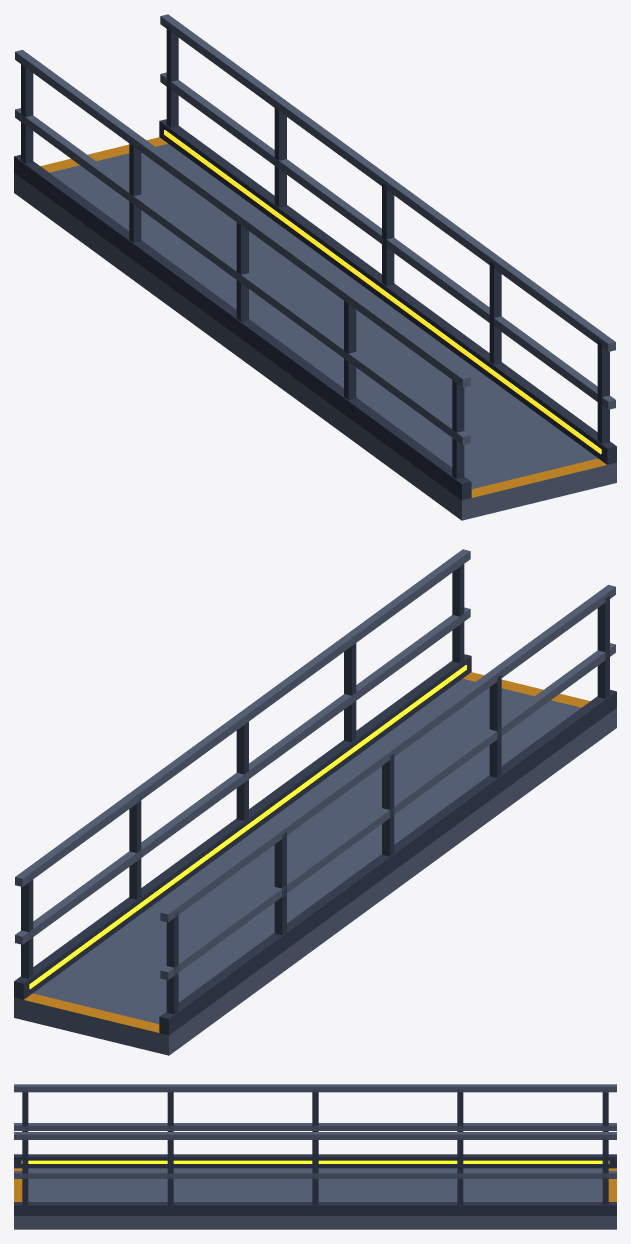
The model's file is city_roof_bridge.glb.
3 views of the same model, one above another, from view 1: azimuth 30°, elevation 25°; view 2: azimuth 150°, elevation 25°; view 3: azimuth 270°, elevation 25° (orthographic). The views are drawn at different scales.
Visible parts, largest first — view 1: walk_slab, toe_rail, toe_rail.001, handrail.001, handrail.003, handrail, handrail.002, edge_light.001, rail_post.009, rail_post.008, rail_post.005, rail_post.007 (+6 smaller); view 2: walk_slab, toe_rail, toe_rail.001, handrail.003, handrail.001, handrail.002, handrail, edge_light.001, rail_post.002, rail_post.003, rail_post.001, rail_post.004 (+6 smaller); view 3: walk_slab, toe_rail.001, toe_rail, handrail.001, handrail.003, handrail.002, handrail, edge_light, rail_post.005, rail_post.009, rail_post.006, rail_post.007 (+6 smaller).
Part boxes in pixels (x1=…): walk_slab: x1=14, y1=137, x2=616, y2=520; toe_rail: x1=14, y1=154, x2=471, y2=500; toe_rail.001: x1=159, y1=119, x2=616, y2=464; handrail.001: x1=15, y1=49, x2=470, y2=387; handrail.003: x1=160, y1=14, x2=615, y2=351; handrail: x1=15, y1=108, x2=470, y2=445; handrail.002: x1=160, y1=72, x2=615, y2=409; edge_light.001: x1=164, y1=130, x2=601, y2=454; rail_post.009: x1=597, y1=340, x2=609, y2=443; rail_post.008: x1=489, y1=261, x2=501, y2=364; rail_post.005: x1=166, y1=25, x2=178, y2=128; rail_post.007: x1=382, y1=183, x2=394, y2=285; walk_slab: x1=14, y1=672, x2=616, y2=1055; toe_rail: x1=159, y1=689, x2=616, y2=1035; toe_rail.001: x1=14, y1=654, x2=471, y2=999; handrail.003: x1=15, y1=549, x2=470, y2=886; handrail.001: x1=160, y1=584, x2=615, y2=922; handrail.002: x1=15, y1=607, x2=470, y2=944; handrail: x1=160, y1=643, x2=615, y2=980; edge_light.001: x1=29, y1=665, x2=466, y2=989; rail_post.002: x1=382, y1=753, x2=394, y2=856; rail_post.003: x1=489, y1=674, x2=501, y2=777; rail_post.001: x1=274, y1=832, x2=286, y2=935; rail_post.004: x1=597, y1=595, x2=609, y2=698; walk_slab: x1=14, y1=1168, x2=616, y2=1229; toe_rail.001: x1=14, y1=1202, x2=616, y2=1215; toe_rail: x1=14, y1=1154, x2=616, y2=1168; handrail.001: x1=14, y1=1084, x2=616, y2=1092; handrail.003: x1=14, y1=1132, x2=616, y2=1139; handrail.002: x1=14, y1=1171, x2=616, y2=1178; handrail: x1=14, y1=1123, x2=616, y2=1130; edge_light: x1=21, y1=1160, x2=609, y2=1163; rail_post.005: x1=602, y1=1137, x2=608, y2=1204; rail_post.009: x1=22, y1=1138, x2=28, y2=1204; rail_post.006: x1=457, y1=1138, x2=463, y2=1204; rail_post.007: x1=312, y1=1137, x2=318, y2=1204.
Size of the model in its own units: 1.6 by 1.39 by 8.
